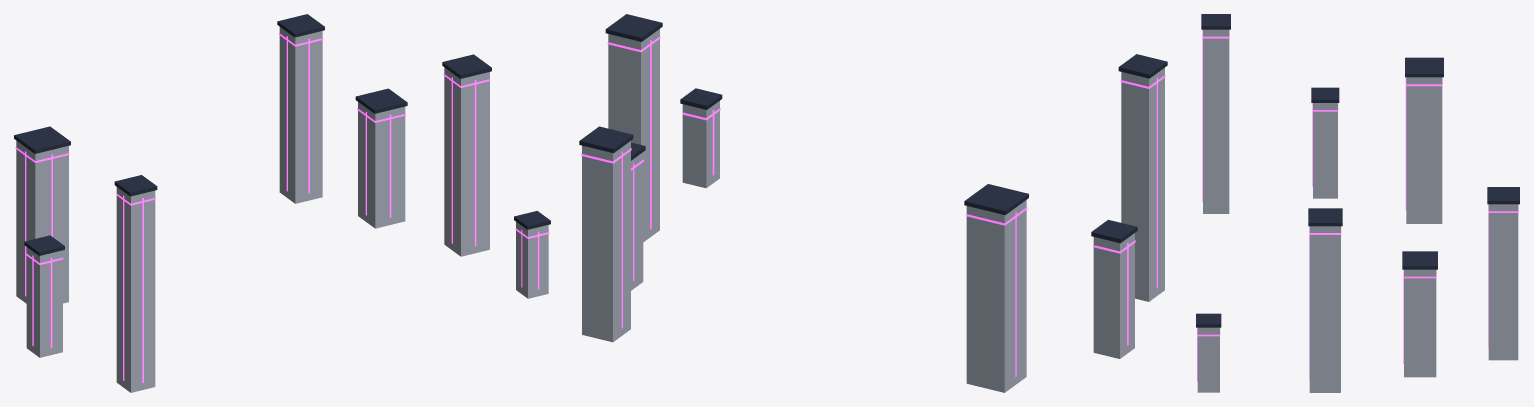
3 views of the same model, side by side, from view 1: azimuth 30°, elevation 25°; view 2: azimuth 150°, elevation 25°; view 3: azimuth 270°, elevation 25° (orthographic). The views are drawn at different scales.
Visible parts, largest first — view 1: nexo_spires_pixel.lod1; view 2: nexo_spires_pixel.lod1; view 3: nexo_spires_pixel.lod1.
Part boxes in pixels (x1,y1,x2,y2): nexo_spires_pixel.lod1: (14, 14, 550, 392); nexo_spires_pixel.lod1: (579, 14, 1167, 392); nexo_spires_pixel.lod1: (1196, 14, 1519, 392).
Size of the model in its own units: 26.37 by 11.22 by 17.49.
